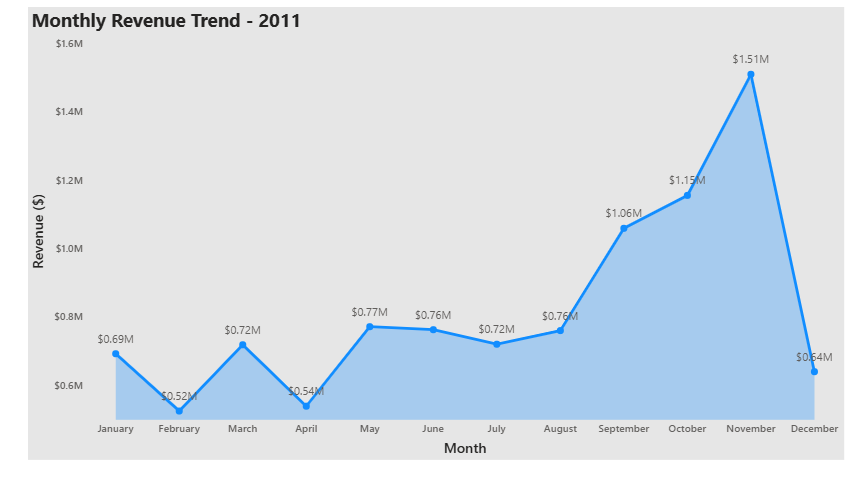

The dashboard page shown, as its layout file describes it:
{"tool":"powerbi","page":{"name":"Q1 - Revenue Time Series (2011)","canvas":[1280,720],"ordinal":1},"visuals":[{"type":"lineChart","title":"Monthly Revenue Trend - 2011","fields":{"Category":["Online Retail.InvoiceDate.Variation.Date Hierarchy.Month"],"Y":["Sum(Online Retail.Revenue)"]},"box":[60.5,25.2,1165.8,646.7],"z":0}]}

Visuals, with their boxes in screenshot pixels (x1, y1, x2, y2), scaled from the page's 1280x720 canvas onto the 867x480 screenshot:
"Monthly Revenue Trend - 2011" lineChart: x1=41 y1=17 x2=831 y2=448
